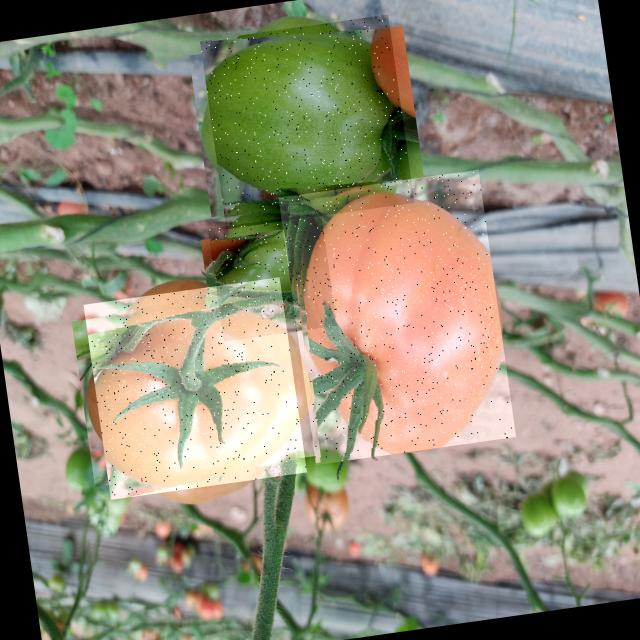Ripe Tomato: (278, 170, 516, 464), (84, 277, 307, 500)
Unripe Tomato: (200, 14, 415, 230), (208, 212, 337, 342)
